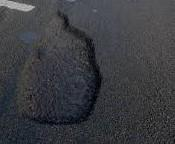pothole: (10, 6, 103, 129)
